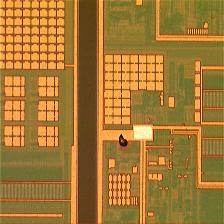PARTICLE: (116, 133, 132, 149)
